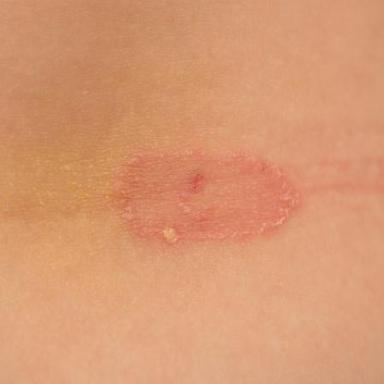Tinea-Corporis: (112, 148, 301, 248)
